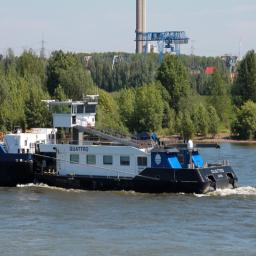tugboat: (31, 86, 242, 202)
